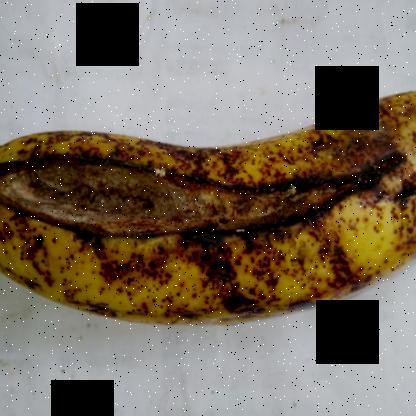rotten: (0, 136, 413, 283)
